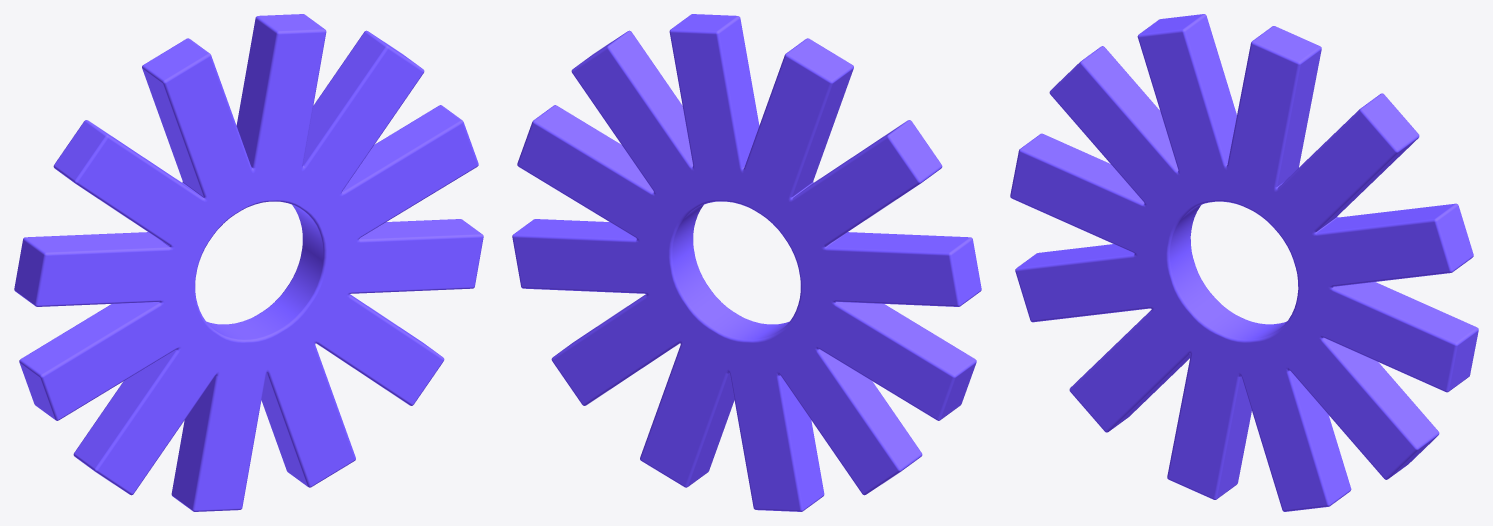
The model's file is loom.glb.
3 views of the same model, side by side, from view 1: azimuth 30°, elevation 25°; view 2: azimuth 150°, elevation 25°; view 3: azimuth 330°, elevation 25° (orthographic).
Parts seen in each view (by area): view 1: Circle; view 2: Circle; view 3: Circle.
Part boxes in pixels (bbox=[...]): Circle: bbox=[14, 14, 483, 511]; Circle: bbox=[512, 14, 981, 511]; Circle: bbox=[1010, 14, 1478, 511].
Bounding box in the file's own units: 0.9016 × 0.9016 × 0.0806.
